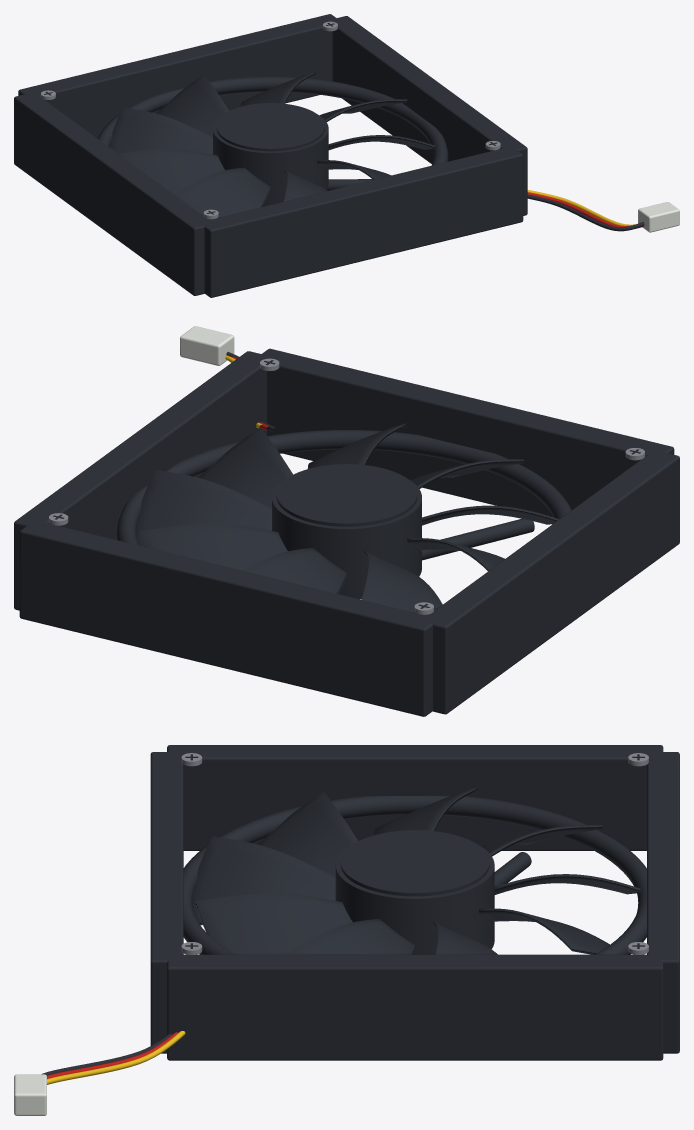
The model's file is cooling-fan.glb.
The picture shows the model from 3 angles, top to bottom: view 1: azimuth 30°, elevation 25°; view 2: azimuth 150°, elevation 25°; view 3: azimuth 270°, elevation 25°; orthographic projection. The views are drawn at different scales.
Parts seen in each view (by area): view 1: Fan frame (×4), Swept aerodynamic fan blade (×9), Fan circular shroud, Hub cap, Fan motor, Fan plug, Curved fan lead; view 2: Fan frame (×4), Swept aerodynamic fan blade (×9), Fan circular shroud, Hub cap, Fan motor, Fan plug, Rear fan support; view 3: Fan frame (×4), Swept aerodynamic fan blade (×9), Fan circular shroud, Hub cap, Fan motor, Fan plug, Curved fan lead, Rear fan support.
Part boxes in pixels (bbox=[...]): Fan frame (×4): bbox=[14, 14, 527, 297]; Swept aerodynamic fan blade (×9): bbox=[109, 71, 435, 216]; Fan circular shroud: bbox=[97, 76, 448, 219]; Hub cap: bbox=[216, 103, 324, 151]; Fan motor: bbox=[213, 115, 328, 206]; Fan plug: bbox=[638, 202, 679, 232]; Curved fan lead: bbox=[527, 194, 644, 231]; Fan frame (×4): bbox=[14, 348, 679, 716]; Swept aerodynamic fan blade (×9): bbox=[136, 423, 559, 611]; Fan circular shroud: bbox=[116, 430, 571, 615]; Hub cap: bbox=[276, 464, 417, 526]; Fan motor: bbox=[272, 479, 421, 599]; Fan plug: bbox=[180, 326, 234, 365]; Rear fan support: bbox=[422, 518, 534, 560]; Fan frame (×4): bbox=[150, 745, 679, 1060]; Swept aerodynamic fan blade (×9): bbox=[192, 786, 640, 954]; Fan circular shroud: bbox=[183, 796, 646, 954]; Hub cap: bbox=[340, 830, 489, 896]; Fan motor: bbox=[335, 846, 494, 954]; Fan plug: bbox=[14, 1074, 46, 1115]; Curved fan lead: bbox=[47, 1031, 185, 1084]; Rear fan support: bbox=[494, 852, 531, 886].
Bounding box in the file's own units: 0.165 × 0.0267 × 0.161.
2 materials, 2 textured.
